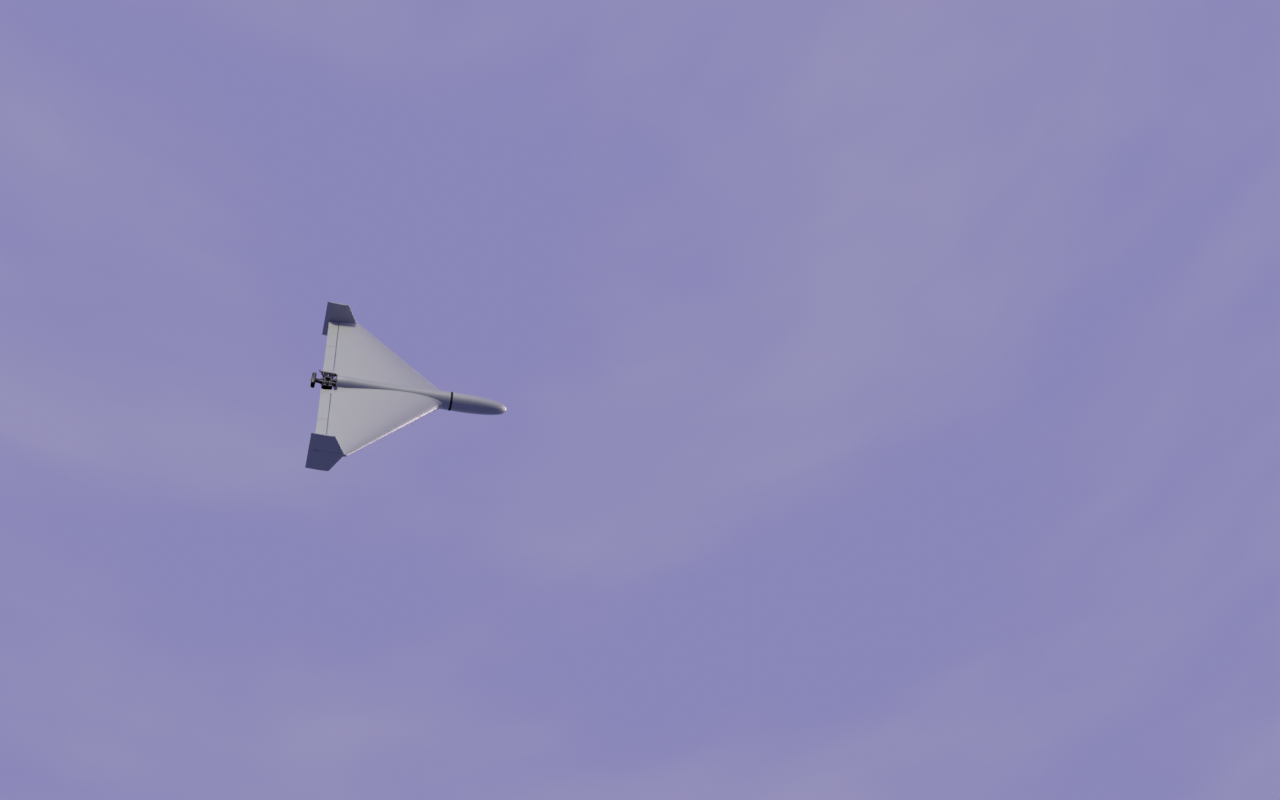shahed: (305, 302, 509, 473)
